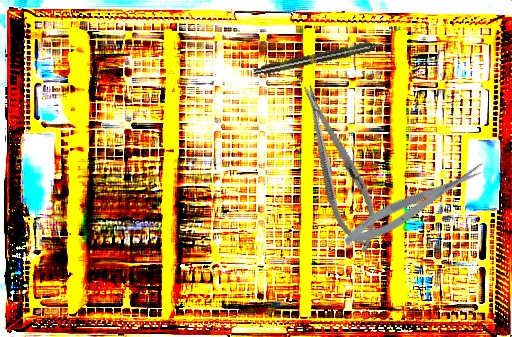Handpiece: (252, 37, 392, 78)
Micro Scissor: (338, 158, 492, 253)
Needle Holder: (288, 78, 389, 258)
